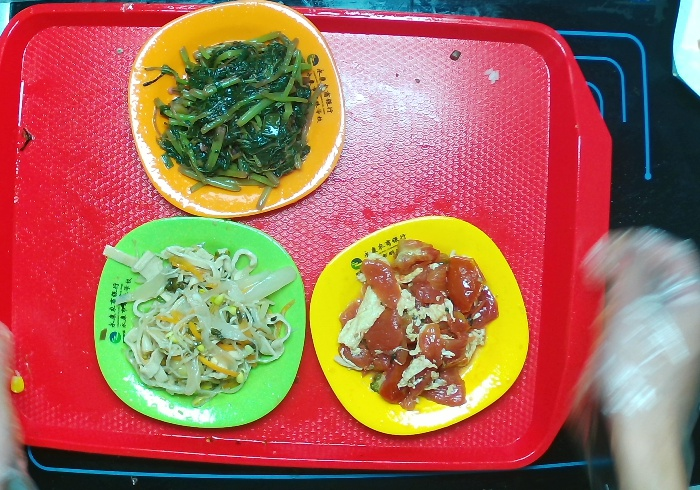YKMZ-Huang_Se_Fang_Die: (310, 212, 532, 435)
YKMZ-Ju_Se_Fang_Die: (127, 5, 343, 219)
YKMZ-Lv_Se_Fang_Die: (94, 212, 305, 431)
